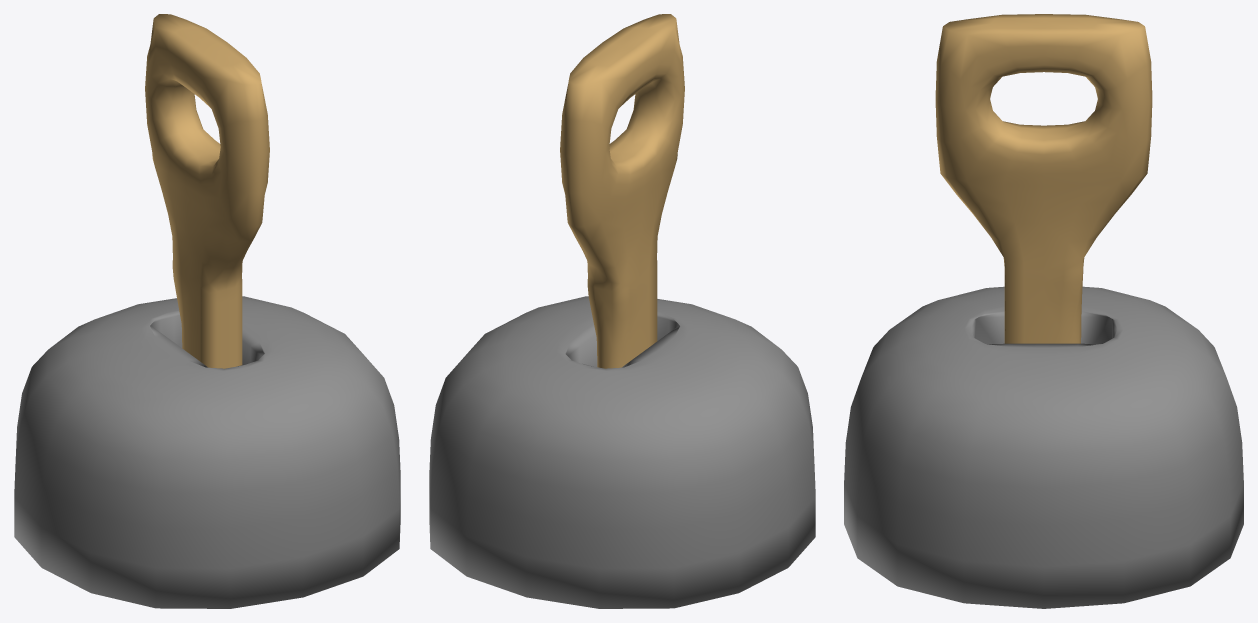
The model's file is avain.fbx.
The picture shows the model from 3 angles, left to right: view 1: azimuth 30°, elevation 25°; view 2: azimuth 150°, elevation 25°; view 3: azimuth 270°, elevation 25°; orthographic projection. The views are drawn at different scales.
Parts seen in each view (by area): view 1: Cube; view 2: Cube; view 3: Cube.
Boxes of the visible parts, x1,y1,x2,y2 form: Cube: [14, 14, 400, 608]; Cube: [429, 14, 815, 608]; Cube: [844, 14, 1243, 608].
Size of the model in its own units: 1.88 by 2.61 by 1.88.
